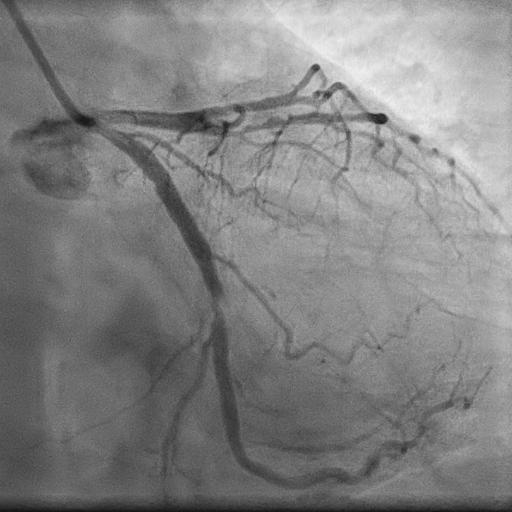block: (185, 271, 254, 350)
